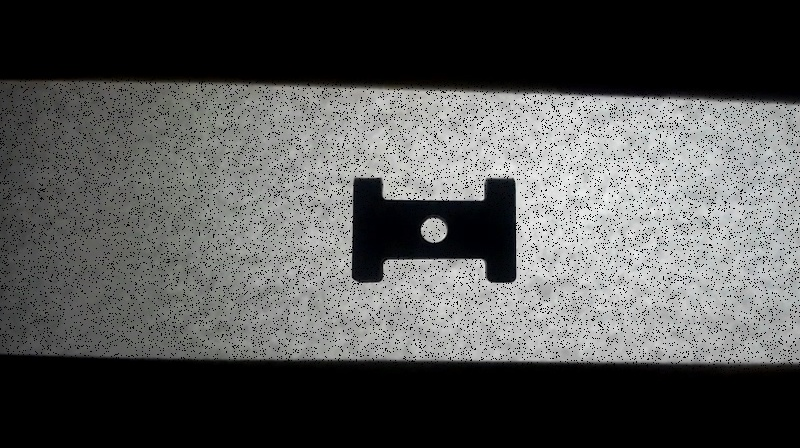O002: (348, 174, 519, 285)
